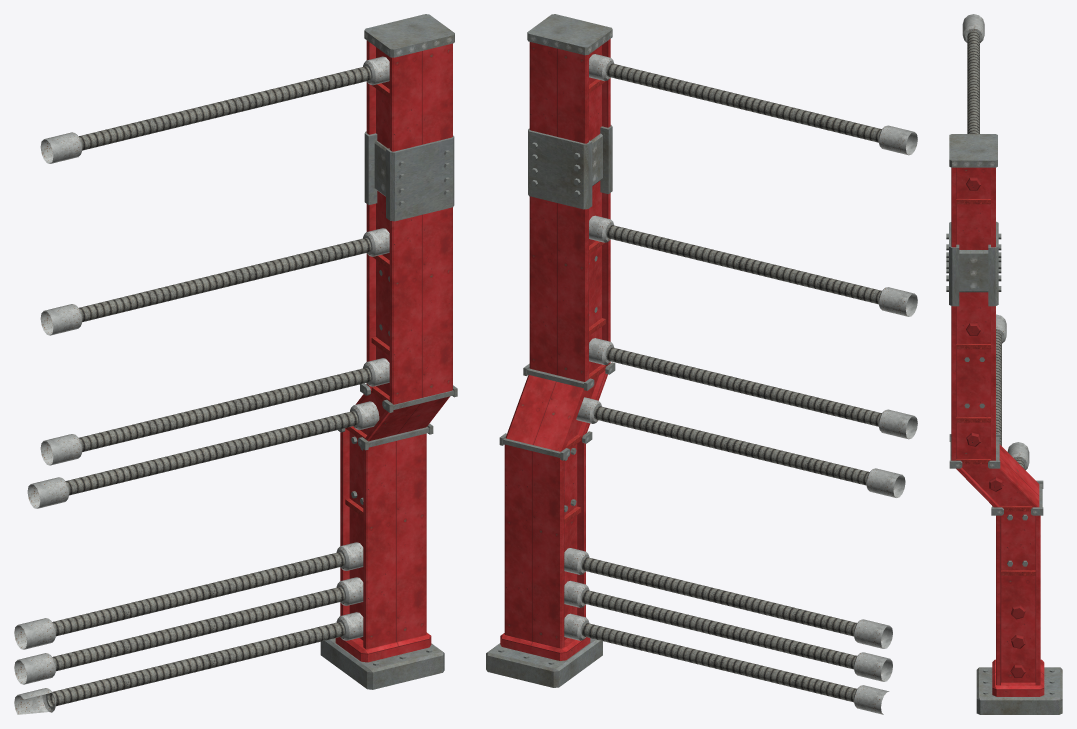
File: Ob_SidePillarWithBars_RC.fbx
3 views of the same model, side by side, from view 1: azimuth 30°, elevation 25°; view 2: azimuth 150°, elevation 25°; view 3: azimuth 270°, elevation 25° (orthographic). The views are drawn at different scales.
Visible parts, largest first — view 1: Ob_SidePillarWithBars_RC; view 2: Ob_SidePillarWithBars_RC; view 3: Ob_SidePillarWithBars_RC.
Part boxes in pixels (x1=…): Ob_SidePillarWithBars_RC: x1=14, y1=14, x2=457, y2=714; Ob_SidePillarWithBars_RC: x1=486, y1=14, x2=917, y2=714; Ob_SidePillarWithBars_RC: x1=946, y1=14, x2=1062, y2=714.
Size of the model in its own units: 1323 by 2049 by 392.
